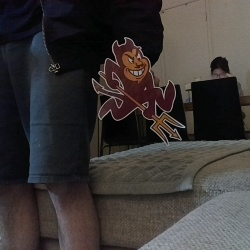sparky: (91, 36, 185, 145)
